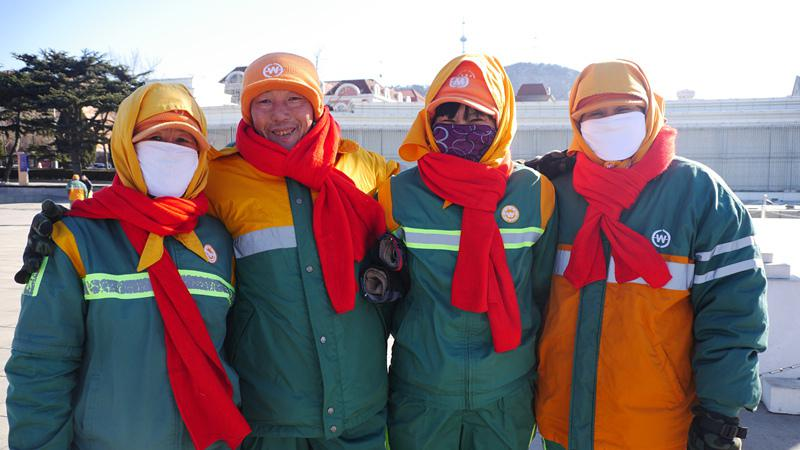NONE: (248, 86, 315, 153)
OK: (580, 99, 649, 166), (433, 104, 498, 169), (139, 128, 200, 196)
